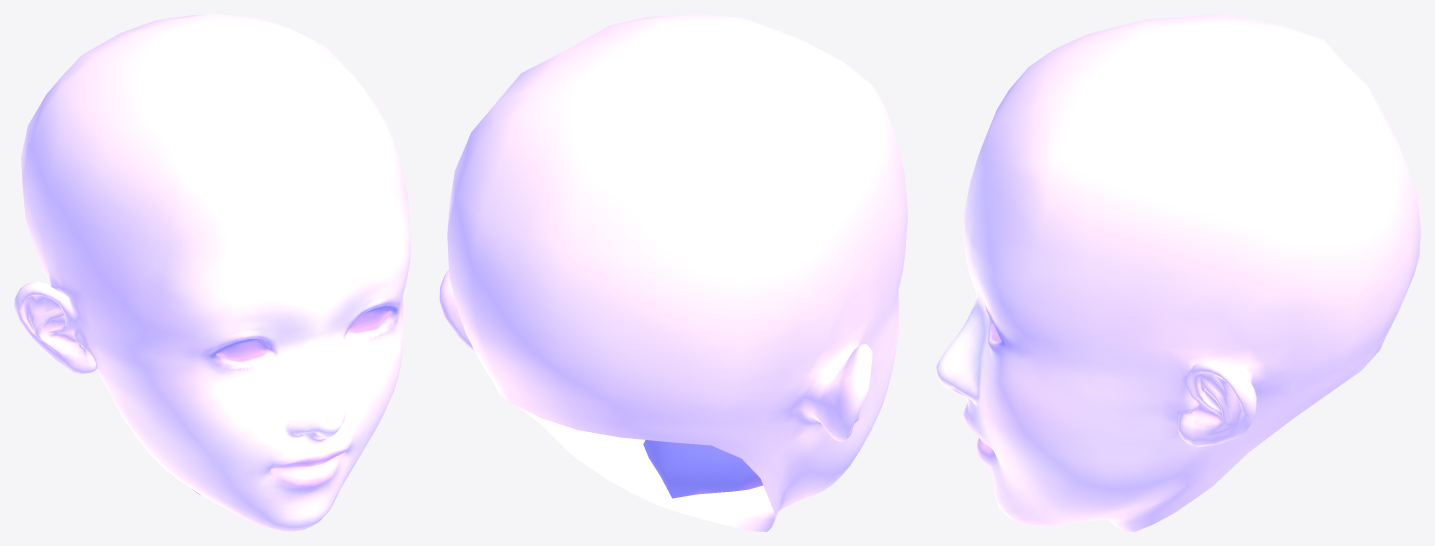
3 views of the same model, side by side, from view 1: azimuth 30°, elevation 25°; view 2: azimuth 150°, elevation 25°; view 3: azimuth 270°, elevation 25° (orthographic). The views are drawn at different scales.
Parts seen in each view (by area): view 1: cw_O_face_0_morph_idx_kuchi; view 2: cw_O_face_0_morph_idx_kuchi; view 3: cw_O_face_0_morph_idx_kuchi.
Boxes of the visible parts, x1,y1,x2,y2 form: cw_O_face_0_morph_idx_kuchi: (14,14,410,531); cw_O_face_0_morph_idx_kuchi: (439,14,907,531); cw_O_face_0_morph_idx_kuchi: (936,14,1420,531).
Size of the model in its own units: 1.86 by 2.15 by 1.96.
1 material, 1 textured.
